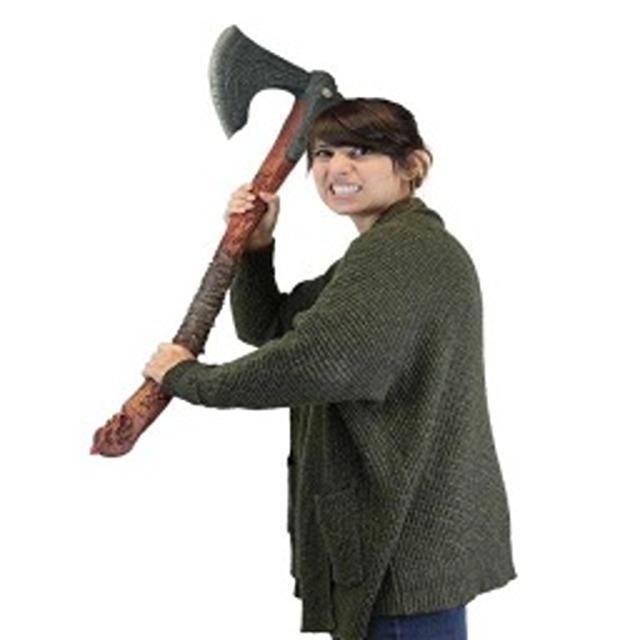ax: (80, 14, 347, 467)
